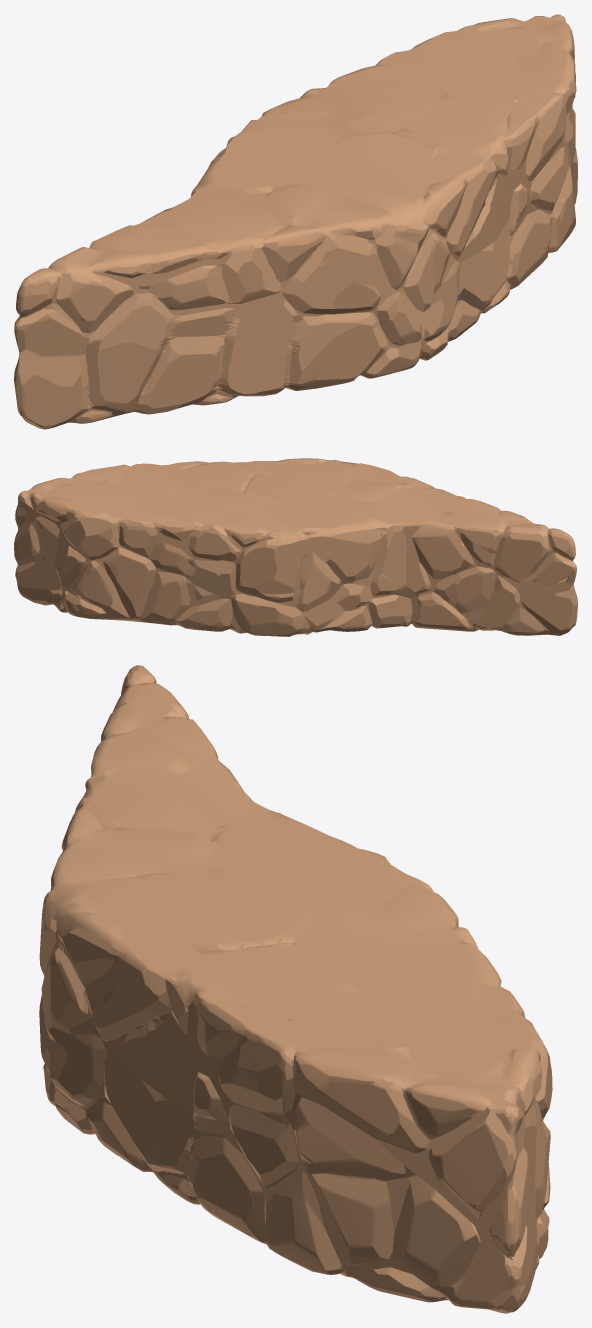
3 views of the same model, one above another, from view 1: azimuth 30°, elevation 25°; view 2: azimuth 150°, elevation 25°; view 3: azimuth 270°, elevation 25° (orthographic). The views are drawn at different scales.
Visible parts, largest first — view 1: Mesh_3_LOD0; view 2: Mesh_3_LOD0; view 3: Mesh_3_LOD0.
Boxes of the visible parts, bbox=[...] form: Mesh_3_LOD0: bbox=[14, 14, 577, 429]; Mesh_3_LOD0: bbox=[14, 458, 577, 636]; Mesh_3_LOD0: bbox=[39, 665, 552, 1313].
Size of what is drawn, in the model's own units: 9447 by 2128 by 4470.
